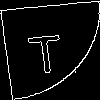T: (25, 25, 65, 75)
